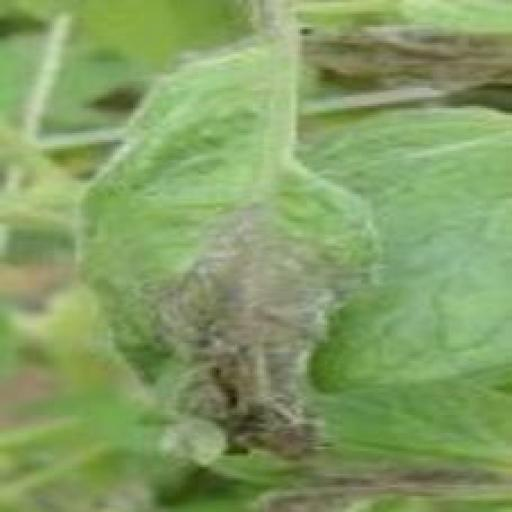Late Blight: (66, 34, 392, 474)
